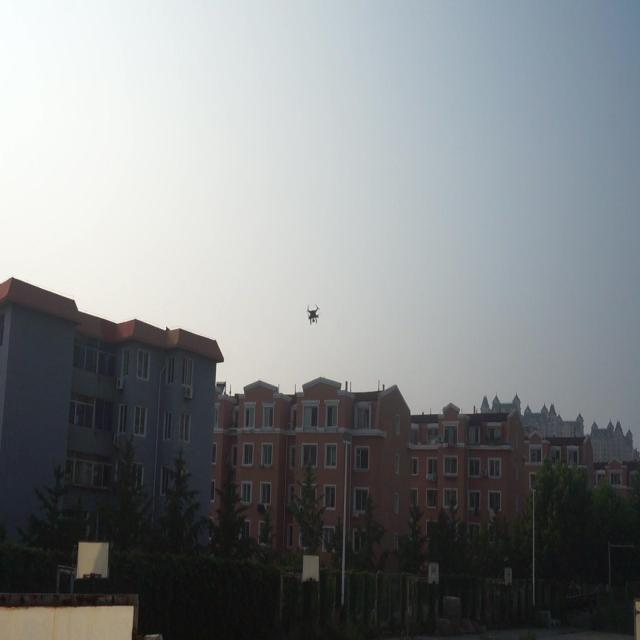drone: (306, 298, 320, 330)
